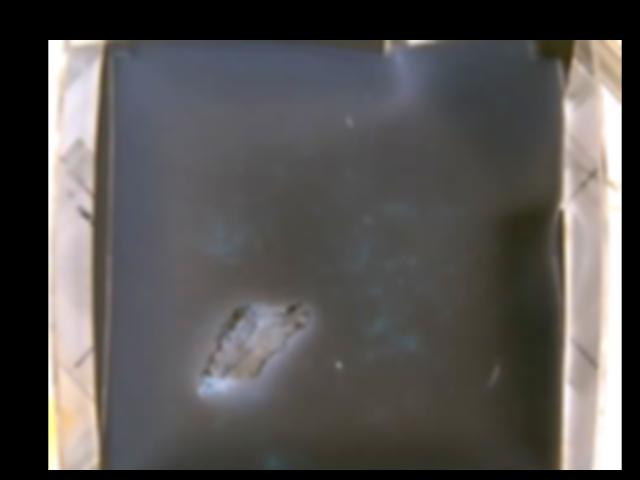Brisk: (200, 300, 310, 392)
